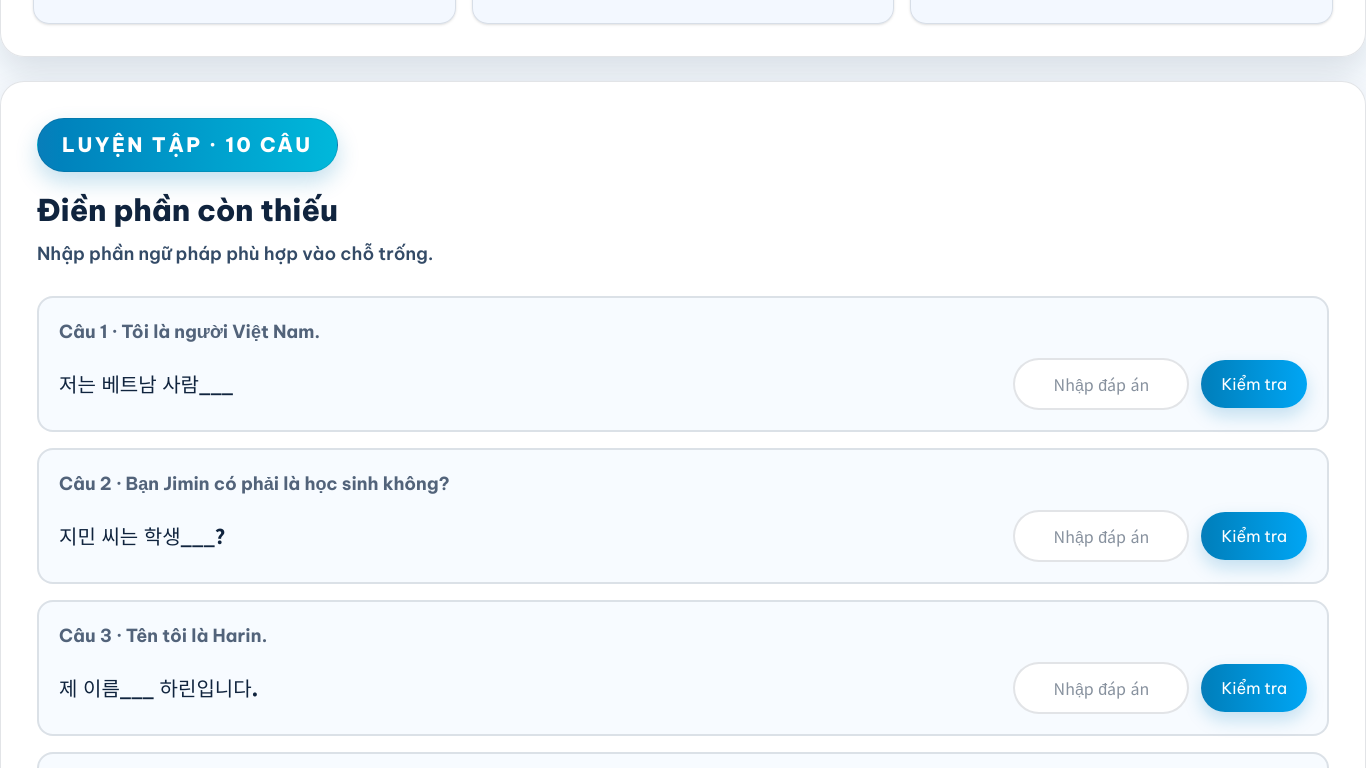
Test: GrammarSection › chấm đúng câu điền ngữ pháp
This screenshot has width=1366, height=768.
(page scrolled)
Type "입니다." into the field with placeholder "Nhập đáp án" in the row of "저는 베트남 사람___". click: (1101, 384)
box: [1013,358,1189,410]
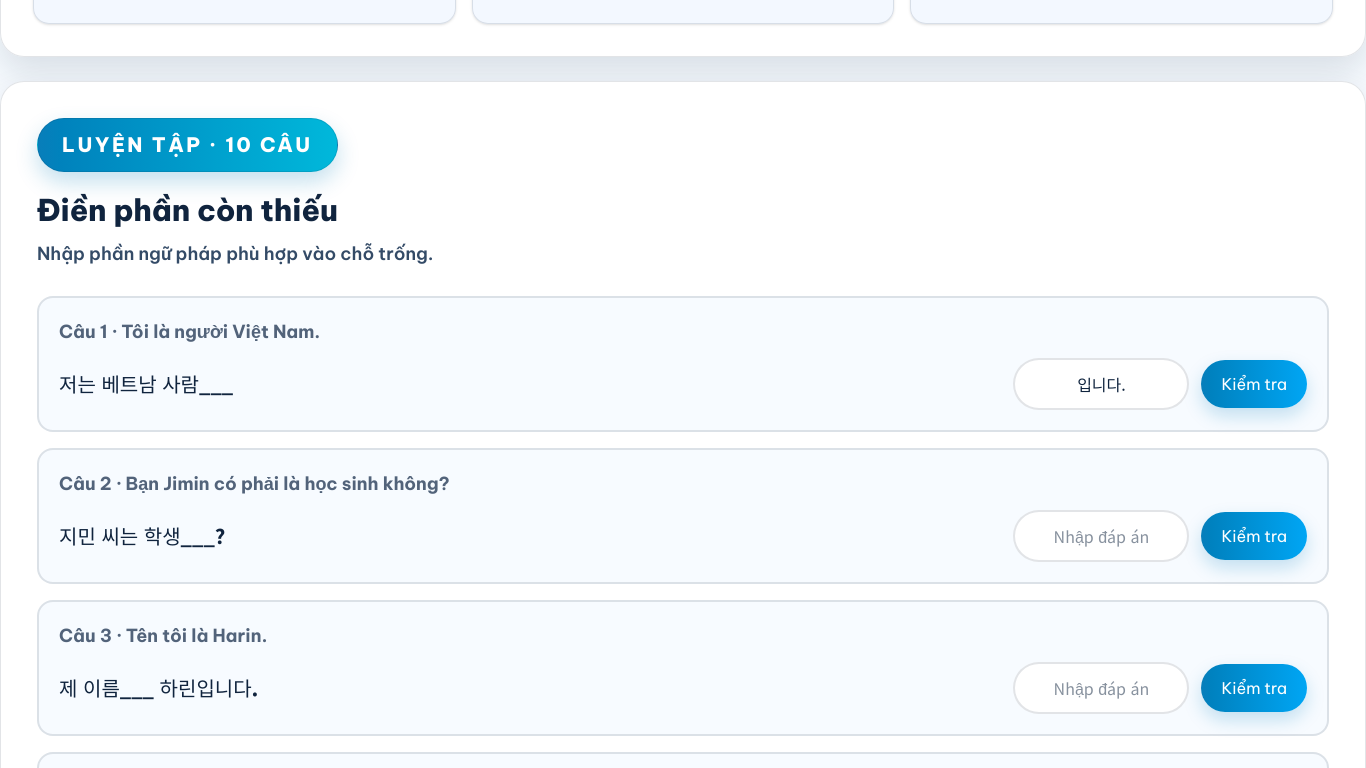
Click the button "Kiểm tra" in the row of "저는 베트남 사람___". click: (1254, 384)
box: [1201,360,1307,408]
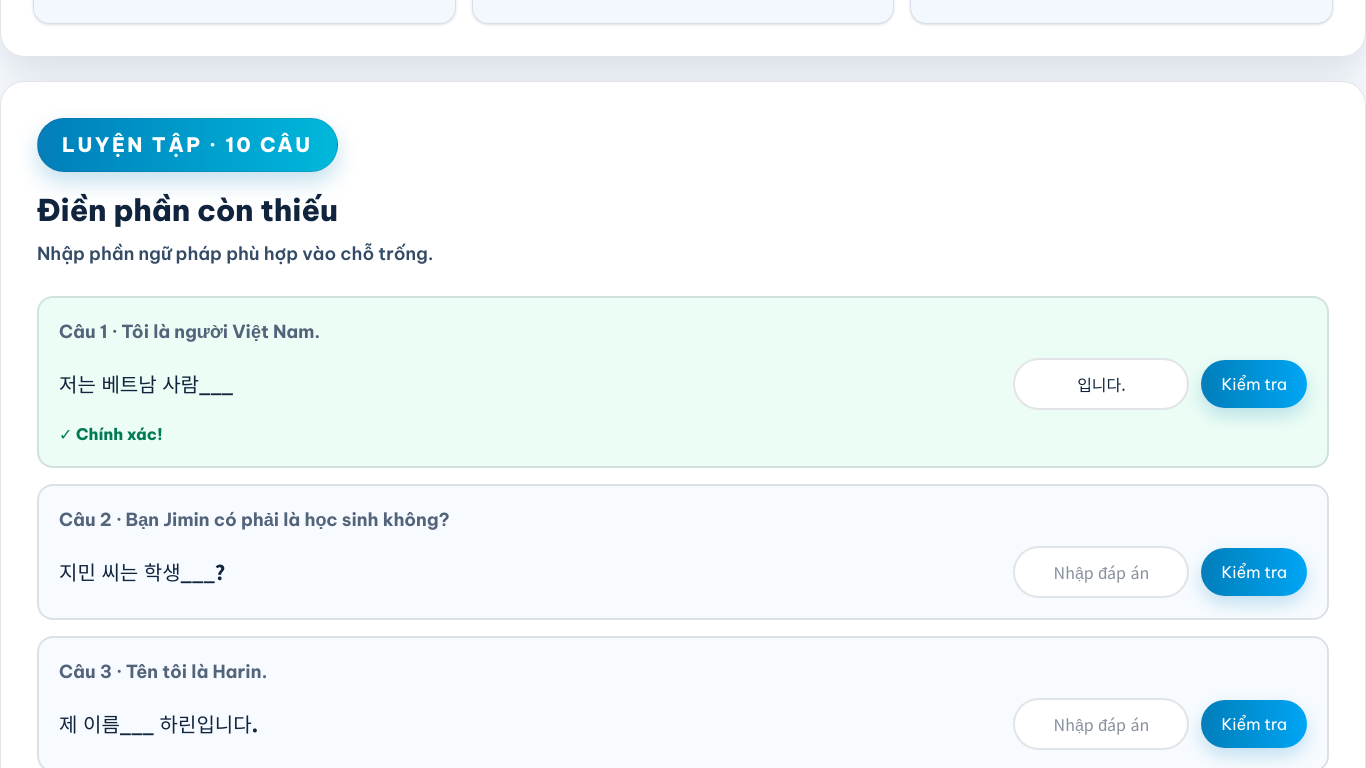
Result: the text "✓ Chính xác!" is shown at [59,424,163,444]
